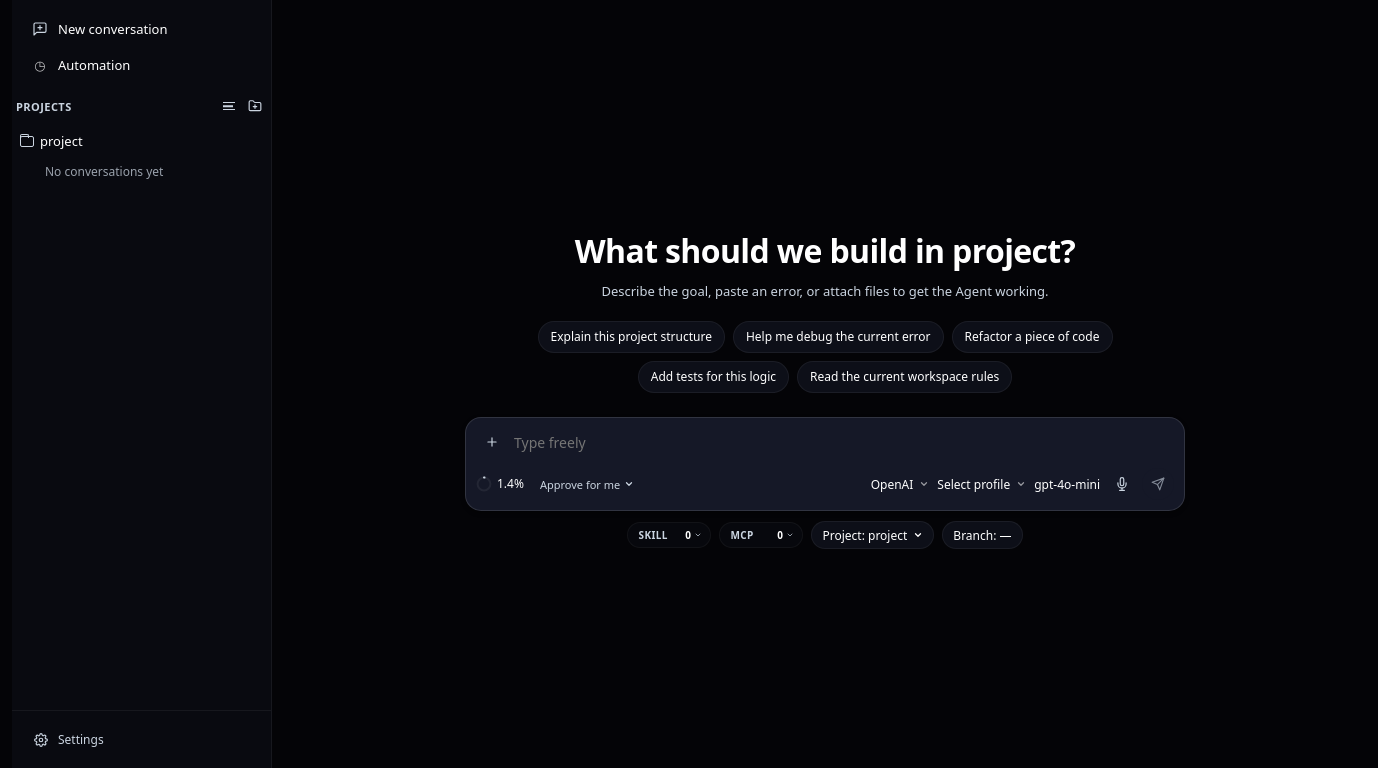
Scenario: AgentPanel 发送首条消息时并行生成会话标题，不阻塞流式回复
Expected: the navigation bar with test id "agent-nav-sidebar" is shown, [12,0,272,767]
Type "fix title issue" into the text box. click: x=843, y=444
box: [514,432,1172,456]
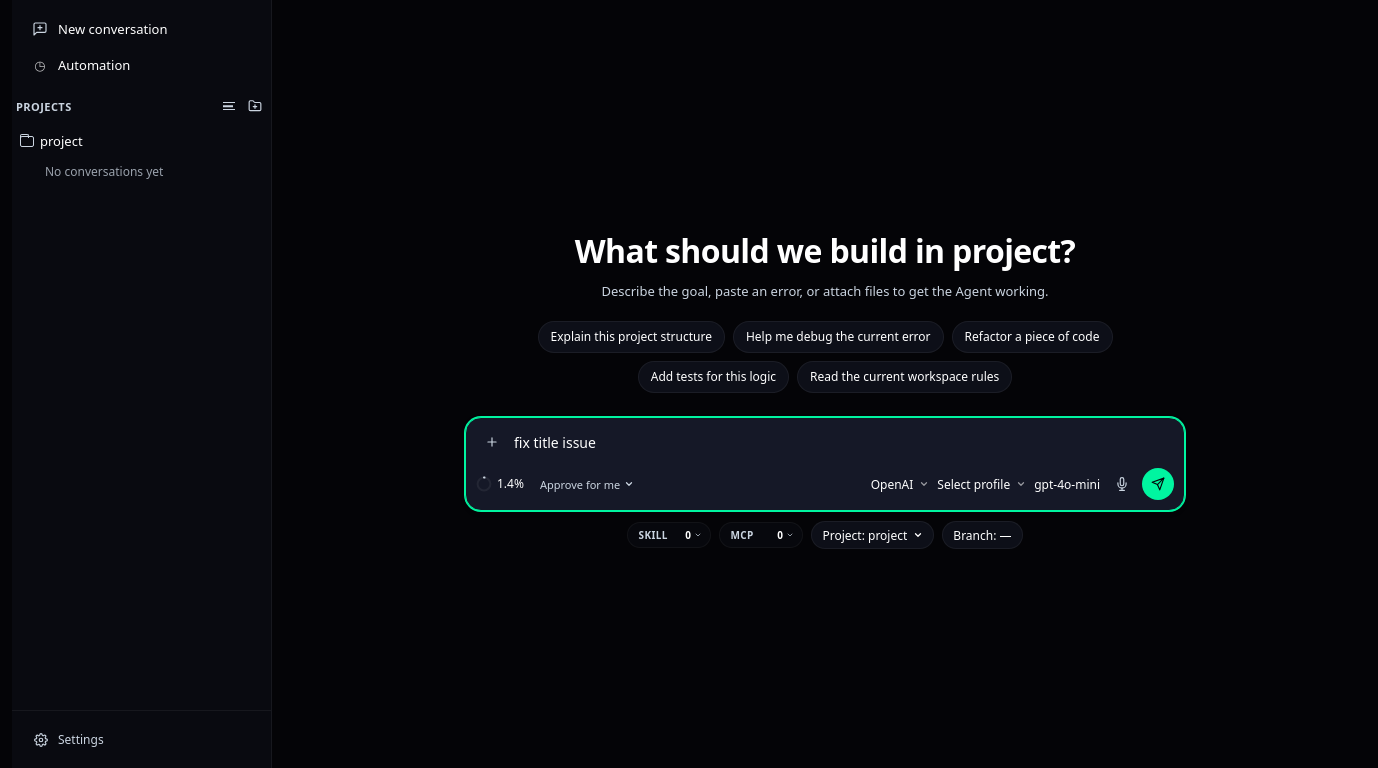
Click the button named "Send". click: x=1158, y=484
box: [1142,468,1174,500]
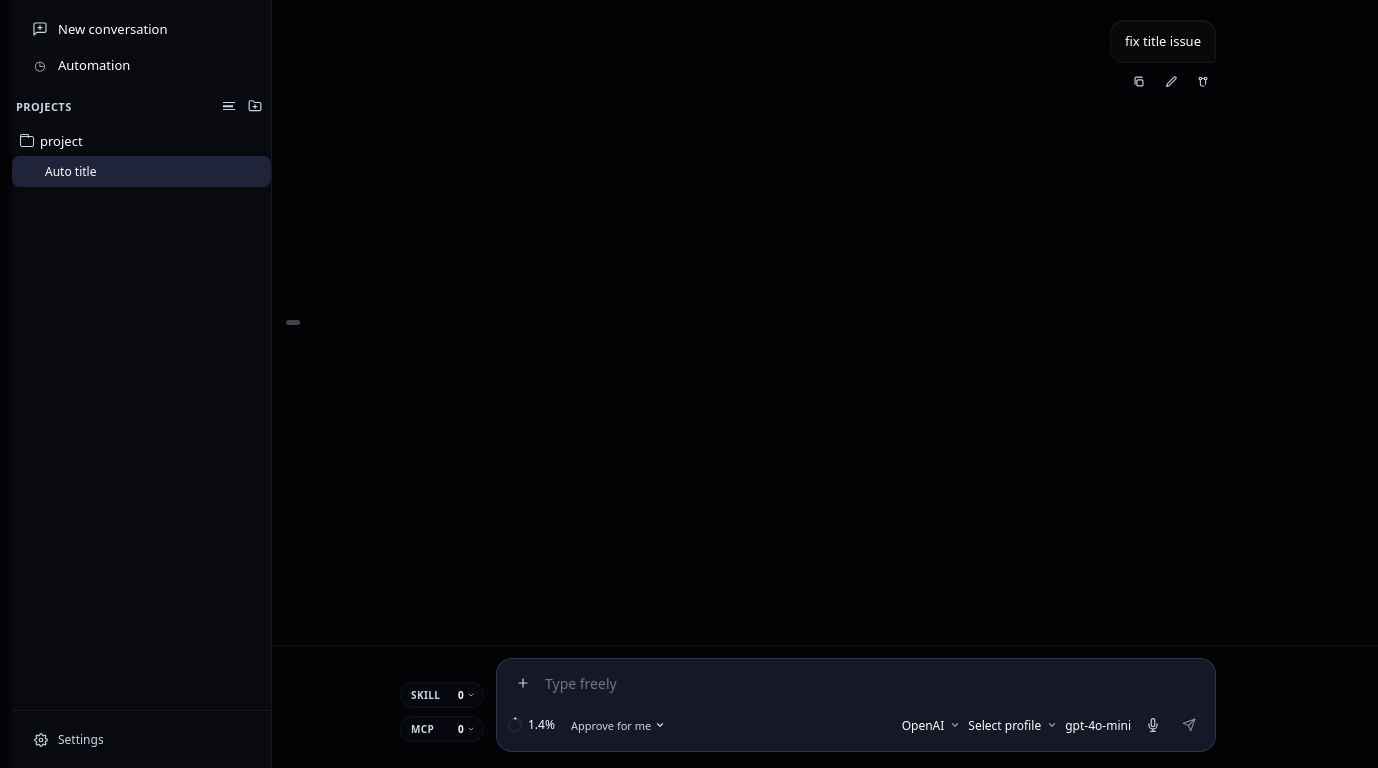
Expected: the text "fix title issue" is shown, [1110,20,1216,63]
